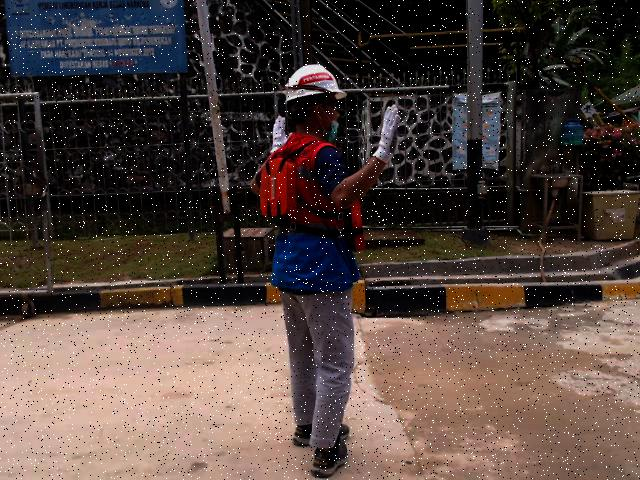gloves: (370, 103, 403, 165), (269, 114, 294, 154)
helmet: (282, 65, 347, 103)
mask: (322, 119, 340, 142)
safety-shoes: (291, 420, 355, 447), (311, 436, 347, 478)
vest: (257, 156, 375, 254)
